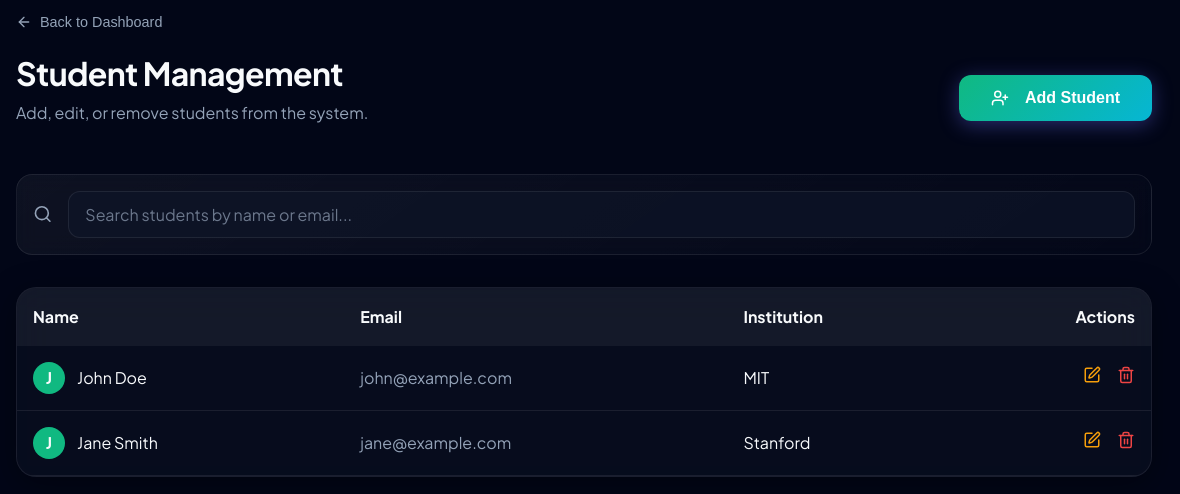
StudentManagementPage › filters students based on search term
Expected: the text "John Doe" is shown, [77,367,147,388]
Step 1. Type "Jane" into the field with placeholder "Search students by name or email..." → (602, 214), box [68,191,1135,238]
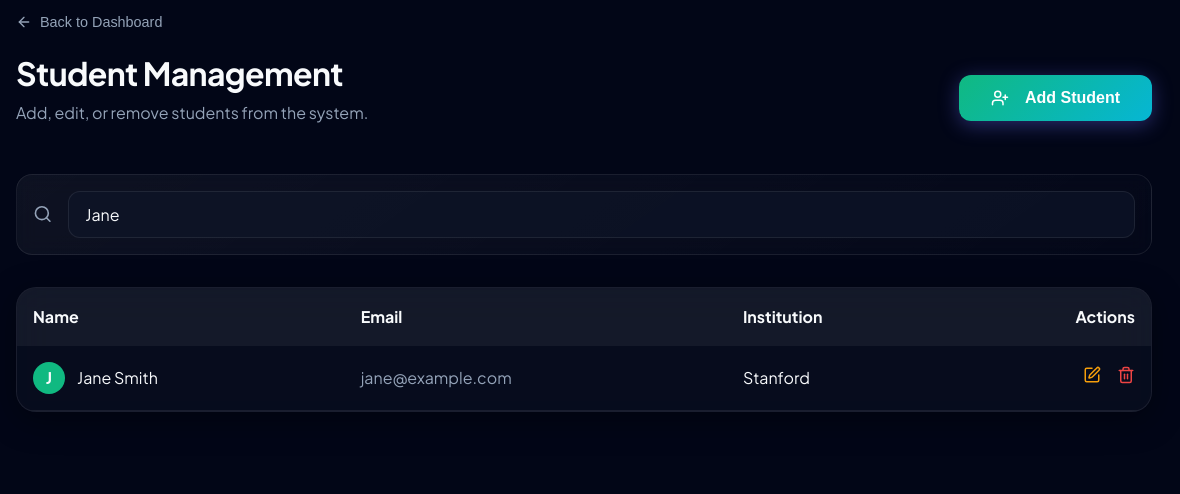
Expected: the text "Jane Smith" is shown, [77,367,158,388]
Result: the text "John Doe" is gone
